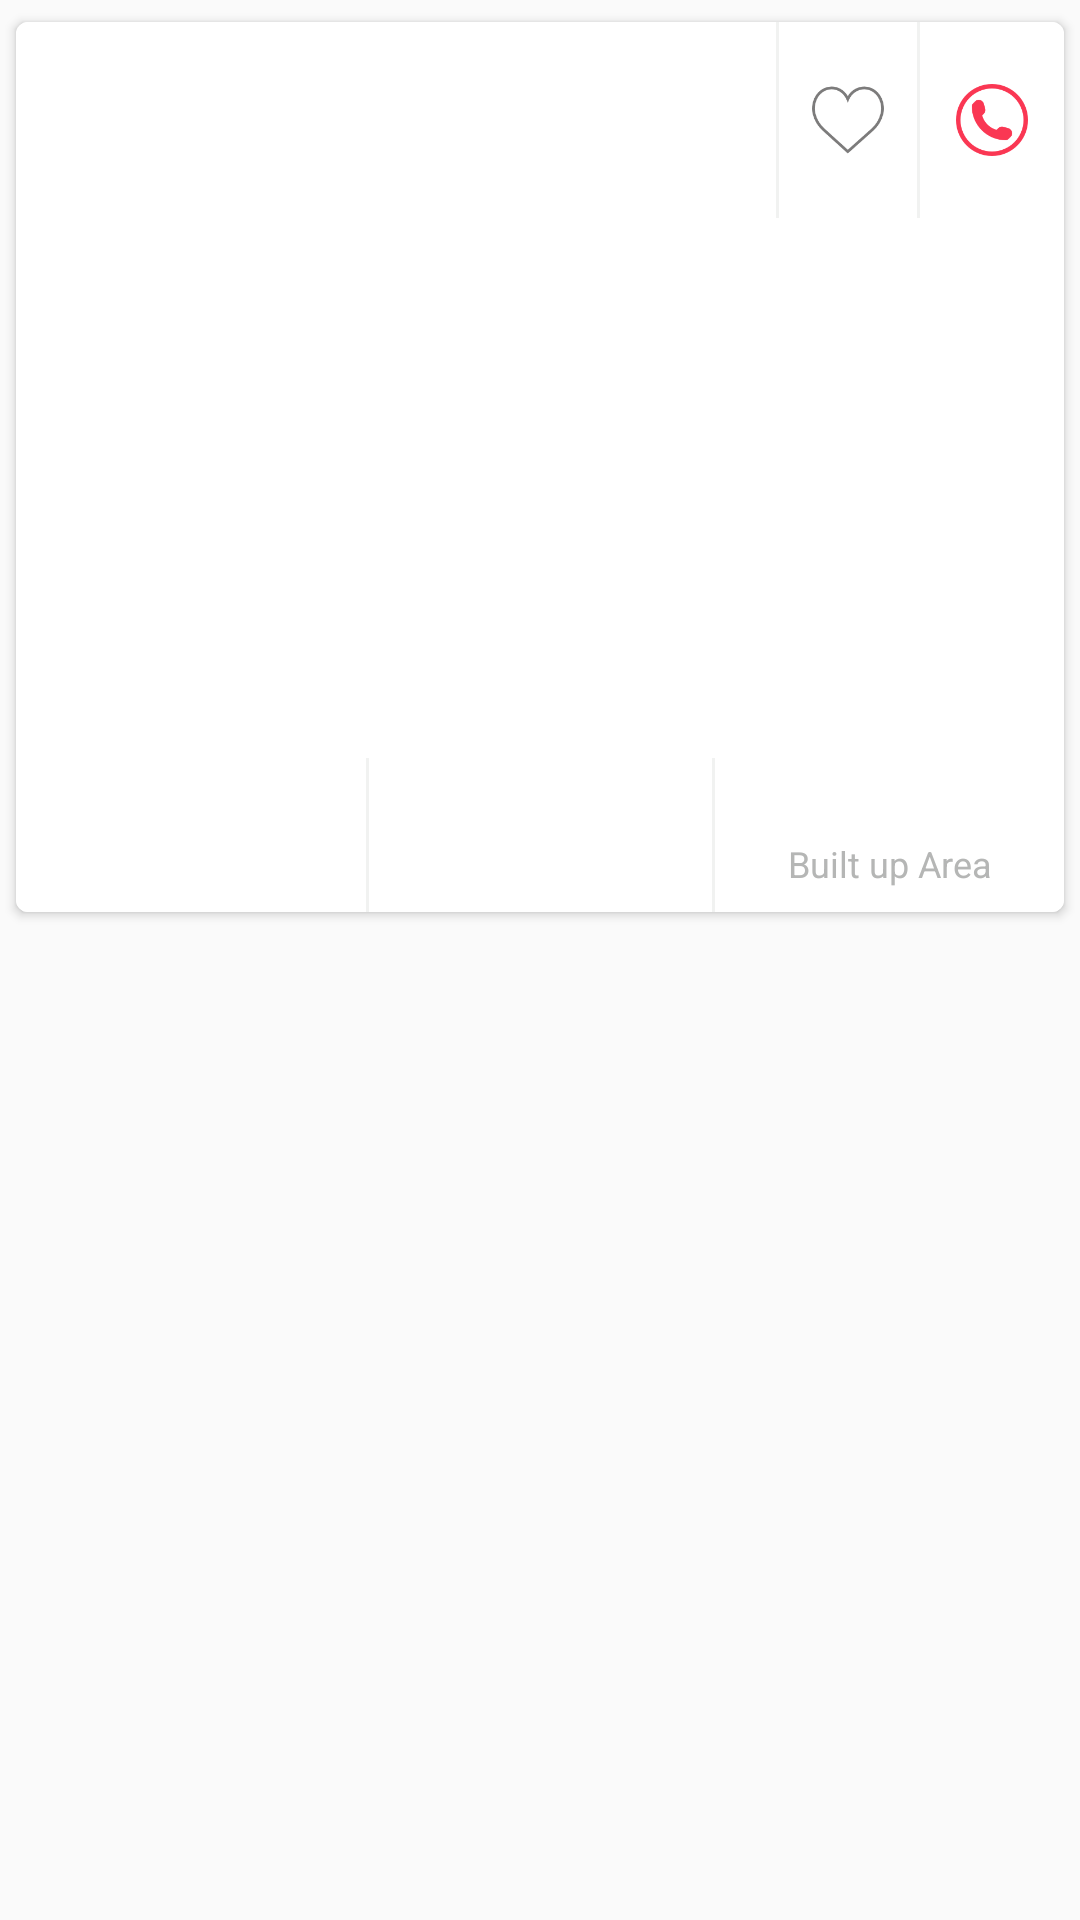

Icons on this 1080px x 1920px Android screen, each with the point to tap as (x,y):
favourite: (848,119)
phone: (992,120)
